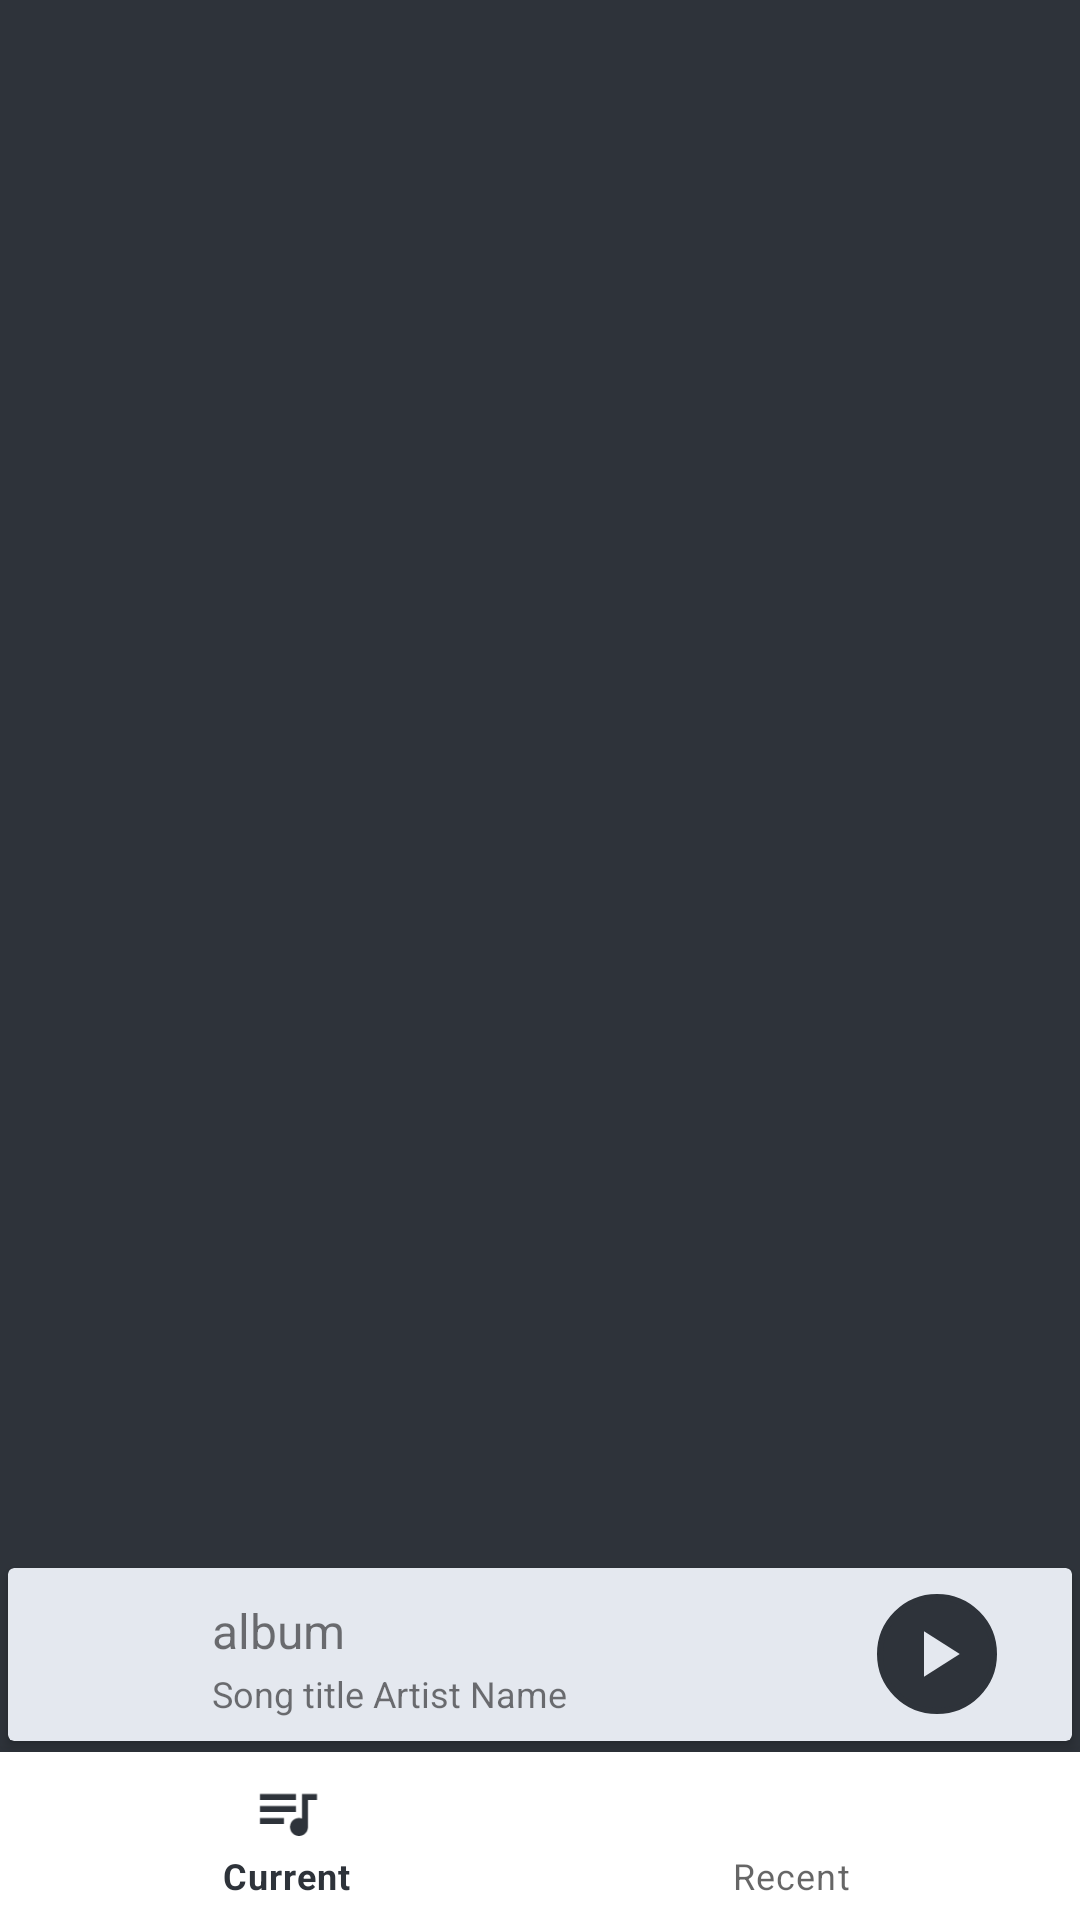

Screen size 1080px x 1920px. Icon name, then its box in pixels as (left=x1, top=y1, right=x2, bottom=y2):
play: (left=877, top=1594, right=997, bottom=1714)
